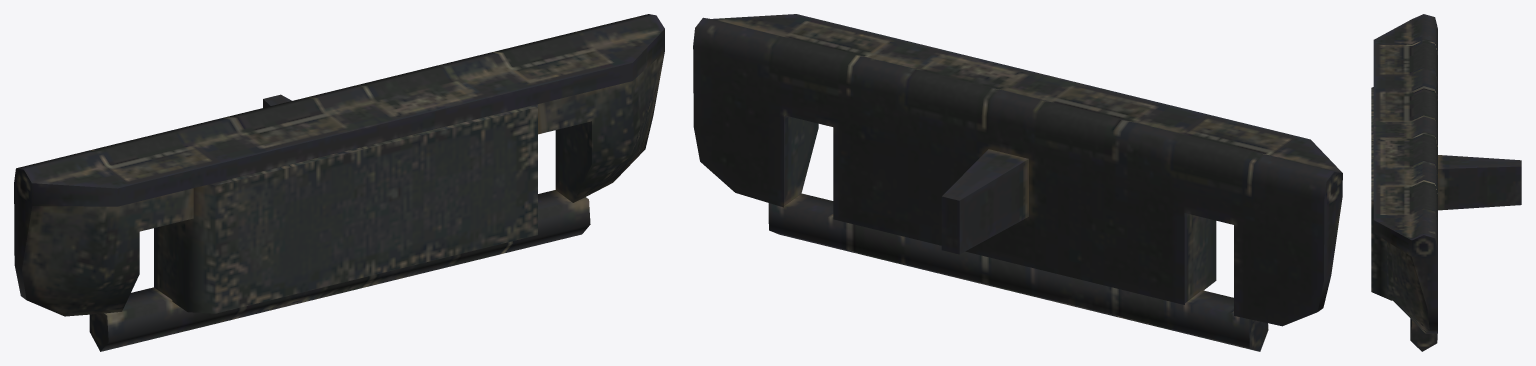
3 views of the same model, side by side, from view 1: azimuth 30°, elevation 25°; view 2: azimuth 150°, elevation 25°; view 3: azimuth 270°, elevation 25° (orthographic). The views are drawn at different scales.
Visible parts, largest first — view 1: set_0_group_0; view 2: set_0_group_0; view 3: set_0_group_0.
Part boxes in pixels (box(x1,y1,x2,y2)): set_0_group_0: box(14, 14, 664, 351); set_0_group_0: box(693, 14, 1342, 351); set_0_group_0: box(1371, 14, 1521, 351).
Size of the model in its own units: 0.501 by 0.1511 by 0.1436.
Materials: 1 (1 with a texture image).
